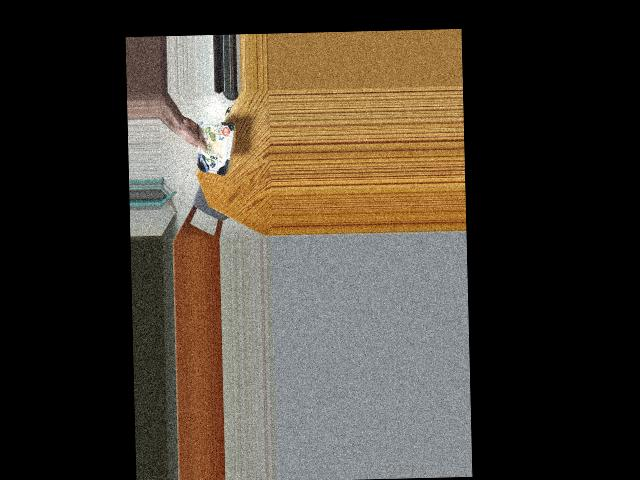cheese: (189, 127, 234, 172)
